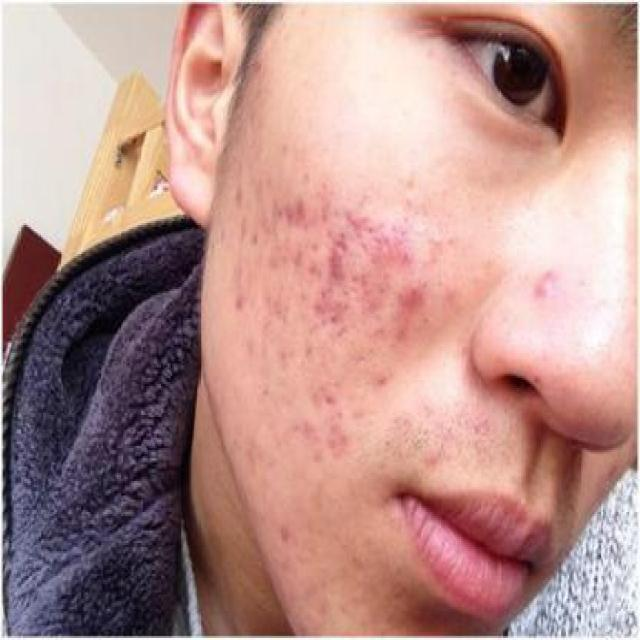Acne: (531, 256, 571, 306), (320, 233, 355, 285), (394, 272, 434, 312), (275, 186, 311, 221), (311, 376, 340, 411), (224, 283, 256, 312), (371, 361, 397, 390)
